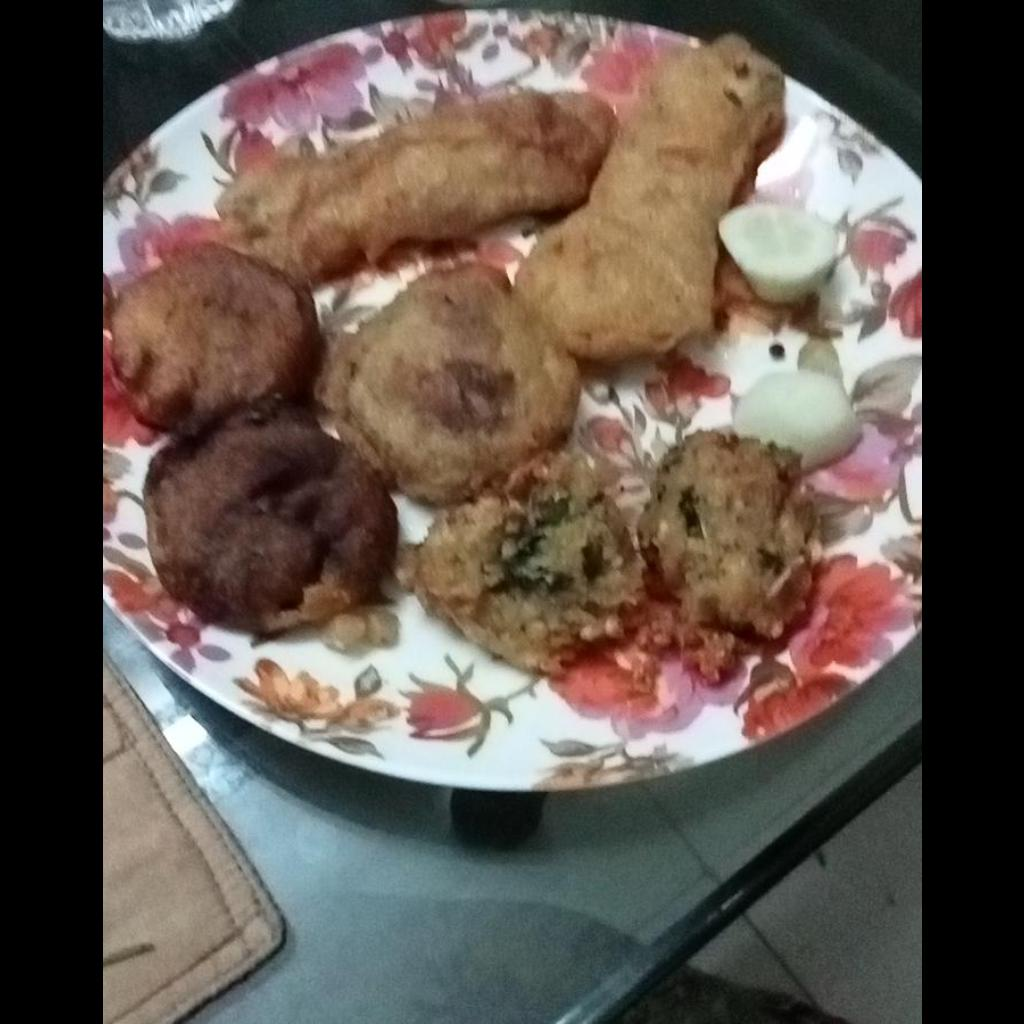beguni: (208, 37, 788, 357)
chop-alu: (106, 242, 569, 629)
cucumber: (731, 337, 861, 471), (719, 204, 839, 304)
peyaju: (420, 430, 820, 684)
